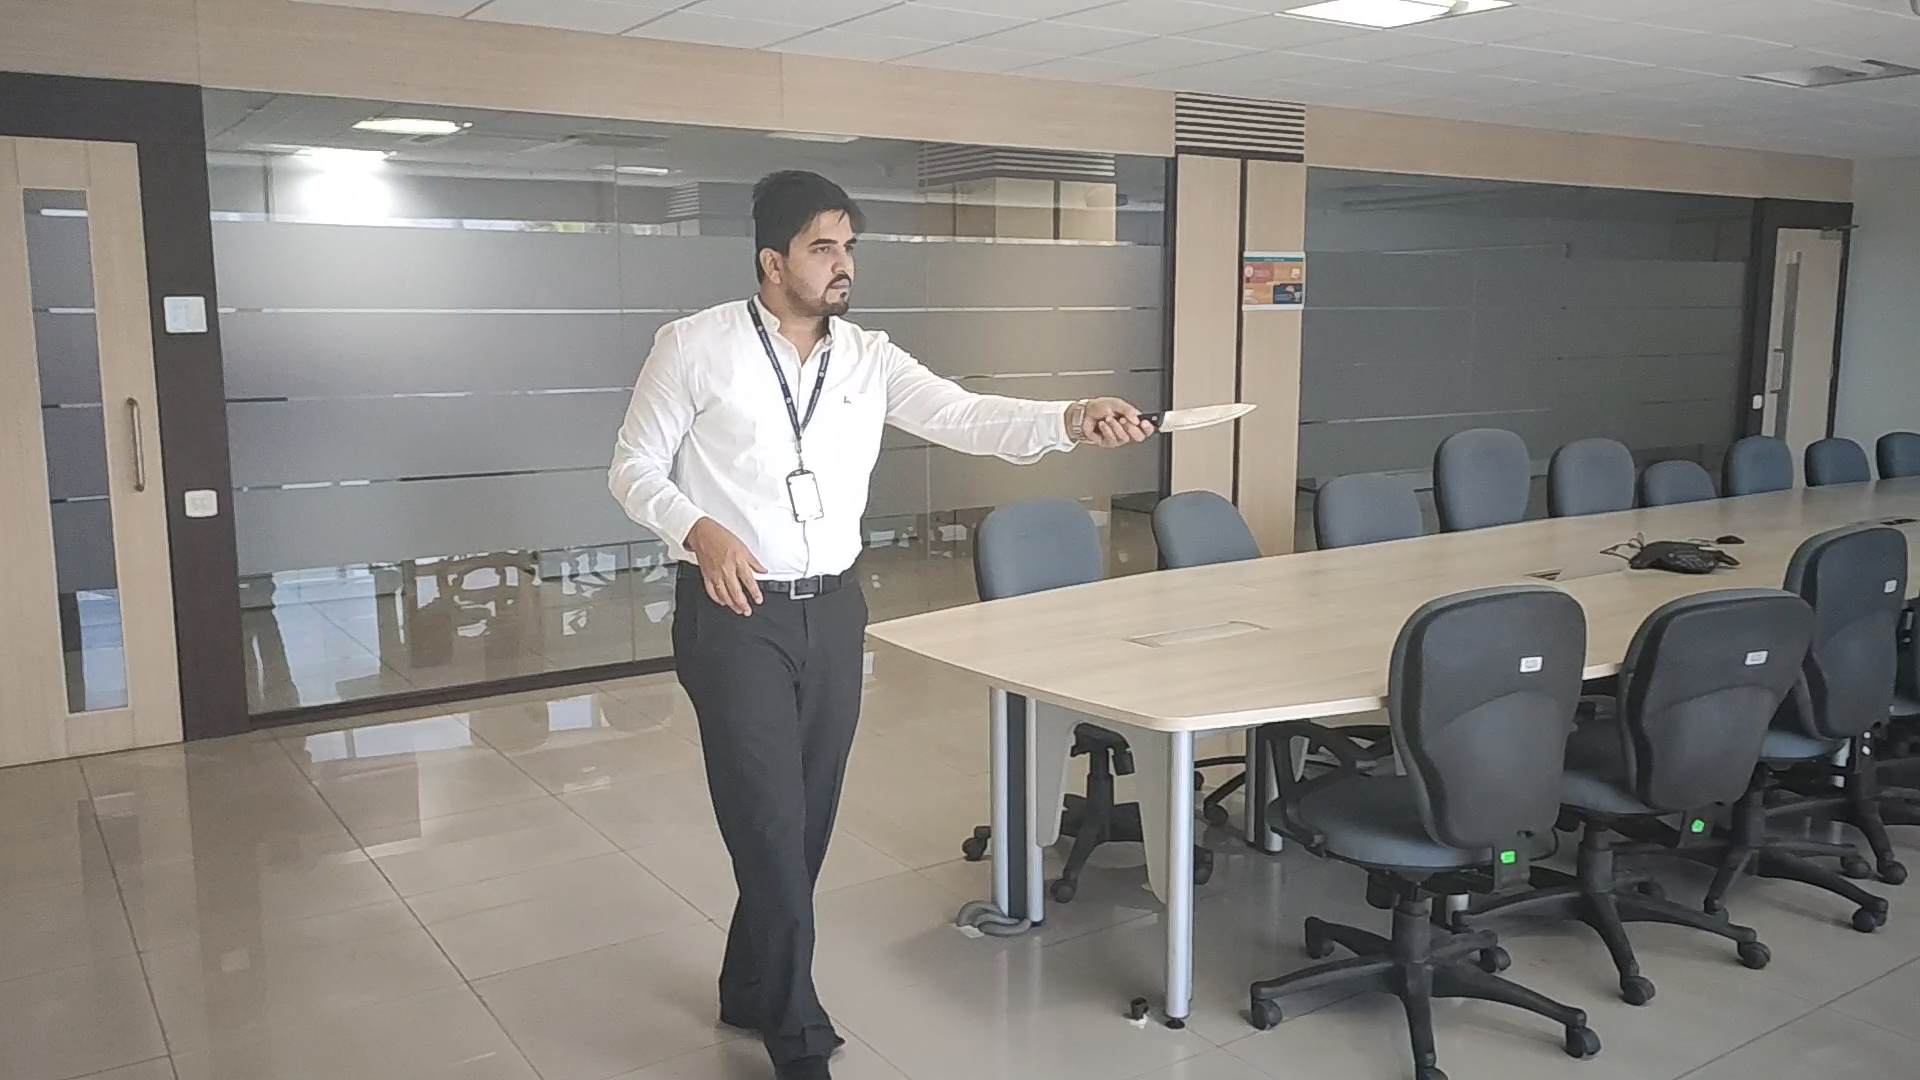knife: (1156, 402, 1259, 434)
